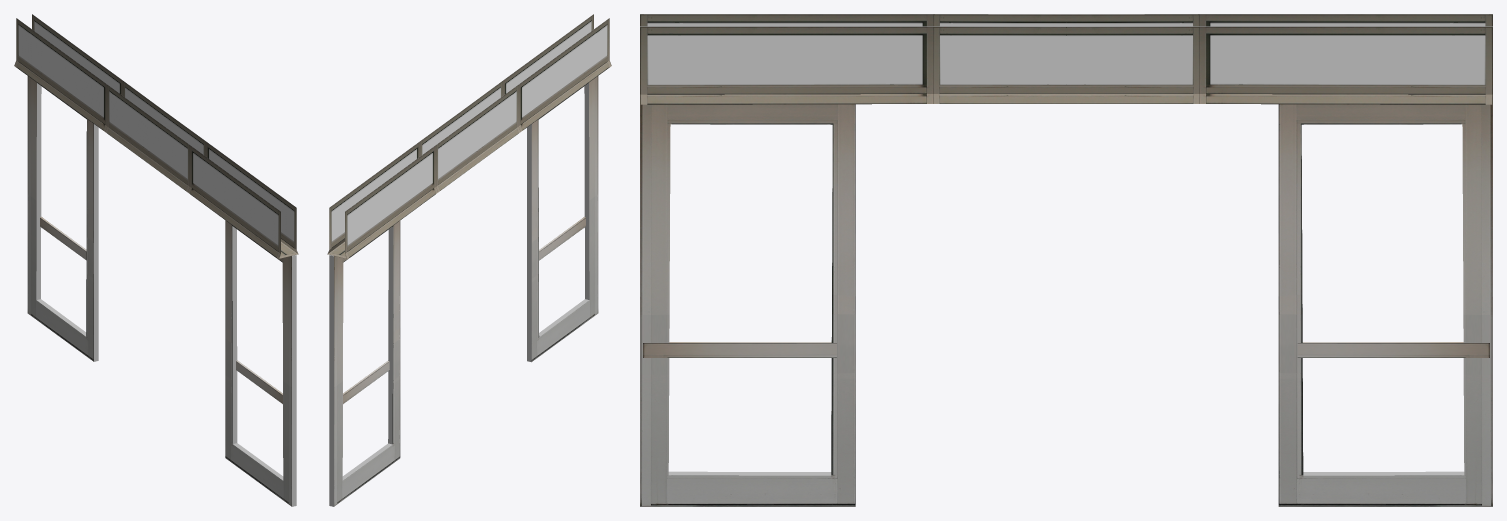
File: OW_ParkingDoor_01_Frame.FBX
3 renders of one model, left to right at view 1: azimuth 30°, elevation 25°; view 2: azimuth 150°, elevation 25°; view 3: azimuth 270°, elevation 25°, orthographic. The views are drawn at different scales.
Visible parts, largest first — view 1: OW_ParkingDoor_01_Frame; view 2: OW_ParkingDoor_01_Frame; view 3: OW_ParkingDoor_01_Frame.
Part boxes in pixels (x1,y1,x2,y2): OW_ParkingDoor_01_Frame: [14, 14, 298, 506]; OW_ParkingDoor_01_Frame: [327, 14, 611, 506]; OW_ParkingDoor_01_Frame: [640, 14, 1492, 506].
Bounding box in the file's own units: 15.77 × 224 × 361.
